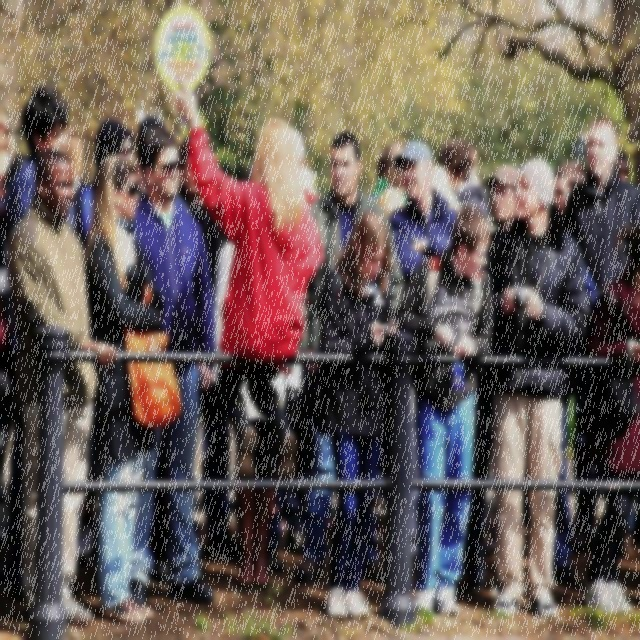pessoa: (5, 141, 122, 634), (288, 126, 406, 588), (487, 153, 592, 620), (389, 199, 497, 623), (128, 124, 217, 608), (88, 152, 168, 627), (312, 207, 399, 627), (208, 232, 307, 593), (76, 117, 143, 569), (453, 162, 522, 598), (176, 129, 242, 562), (581, 218, 639, 621), (560, 116, 639, 296), (2, 79, 78, 245), (387, 139, 464, 294), (0, 145, 24, 500), (551, 392, 589, 592), (550, 150, 634, 217), (270, 479, 310, 577), (63, 122, 95, 230), (431, 136, 474, 213), (453, 139, 493, 220), (367, 137, 405, 205), (134, 115, 168, 177), (374, 448, 388, 540)
